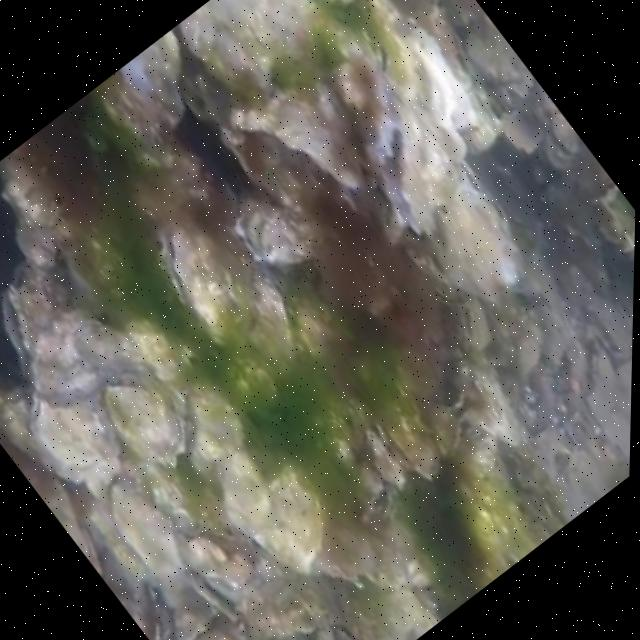Oyster-Closed: (0, 394, 107, 583), (431, 156, 523, 299), (157, 218, 255, 345), (413, 13, 503, 149), (30, 394, 114, 499), (362, 0, 427, 91), (237, 199, 311, 266), (370, 407, 435, 480), (401, 236, 460, 308), (462, 297, 490, 351)
Oyster-Indeterminate: (230, 78, 370, 186), (181, 0, 324, 95), (91, 26, 184, 163), (111, 476, 184, 583), (255, 461, 323, 572), (221, 454, 275, 548), (250, 278, 293, 386), (188, 390, 238, 471), (425, 403, 462, 463), (501, 107, 542, 145), (553, 108, 582, 151)
Oyster-Open: (370, 84, 465, 231), (1, 259, 71, 381), (107, 369, 185, 466), (190, 570, 244, 623), (142, 577, 182, 640), (360, 462, 398, 520)
